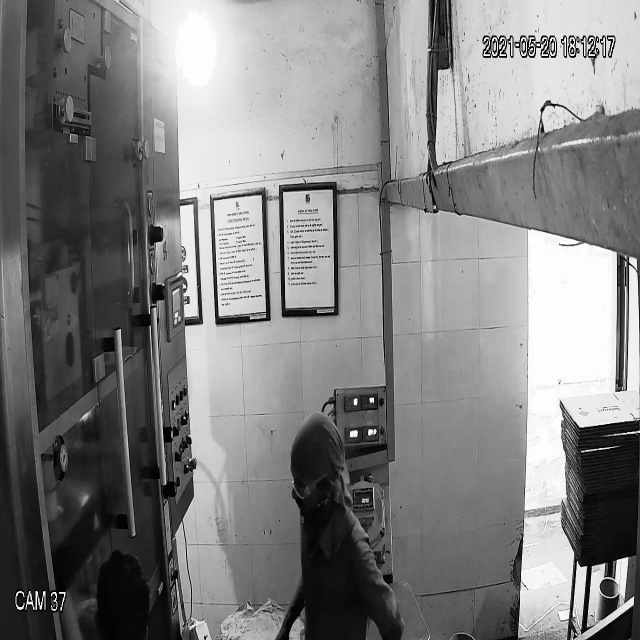Gafas: (283, 468, 334, 507)
